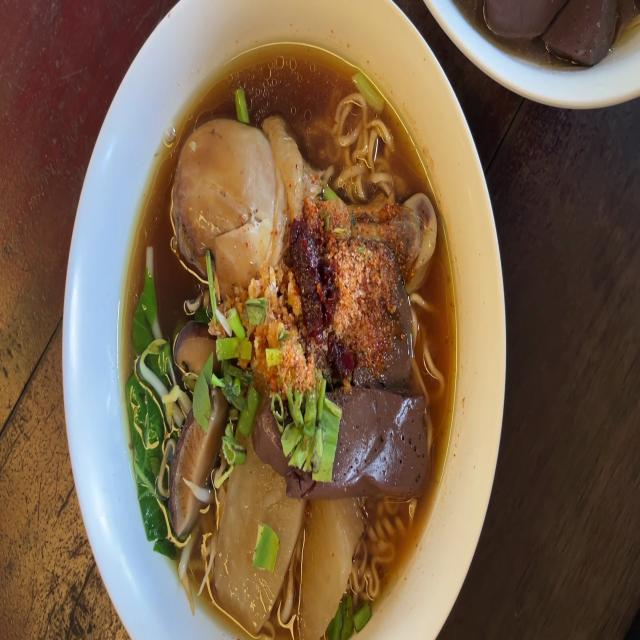boiled_chicken_blood_jelly: (322, 390, 426, 496), (485, 0, 636, 59)
chicken_drumstick: (172, 119, 436, 290)
daikon_radish: (215, 492, 361, 621)
noodle: (132, 44, 436, 640)
